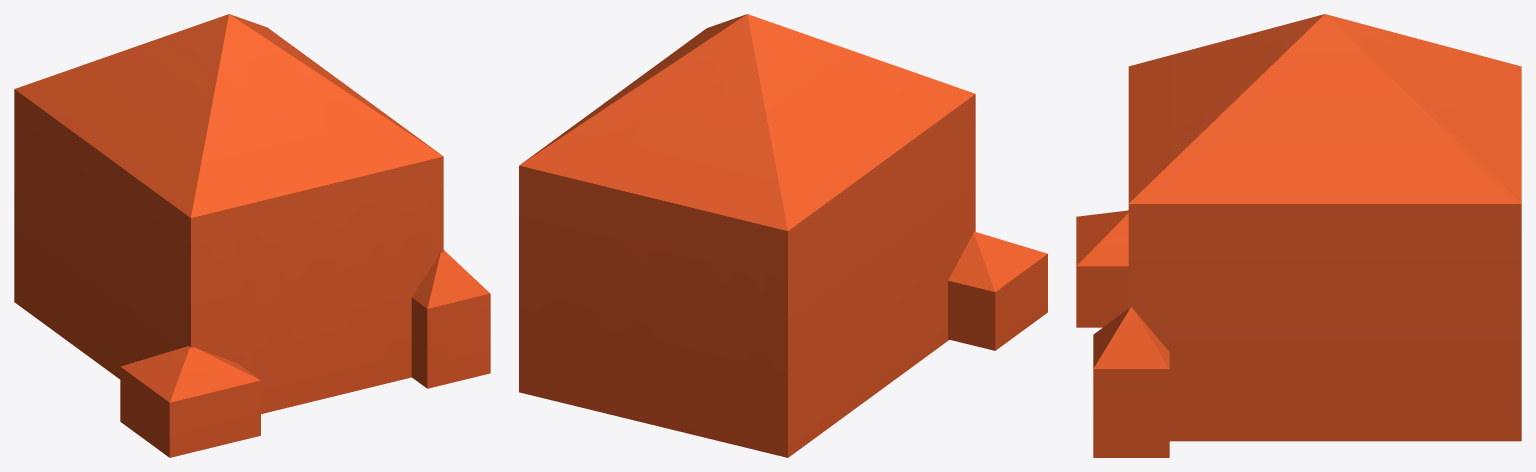
3 renders of one model, left to right at view 1: azimuth 30°, elevation 25°; view 2: azimuth 150°, elevation 25°; view 3: azimuth 270°, elevation 25°, orthographic. The views are drawn at different scales.
Visible parts, largest first — view 1: 10; view 2: 10; view 3: 10.
Part boxes in pixels (<box>): 10: <box>14,14,490,457</box>; 10: <box>519,14,1047,457</box>; 10: <box>1076,14,1521,457</box>.
Size of the model in its own units: 104 by 97.22 by 109.
1 material, 1 textured.
